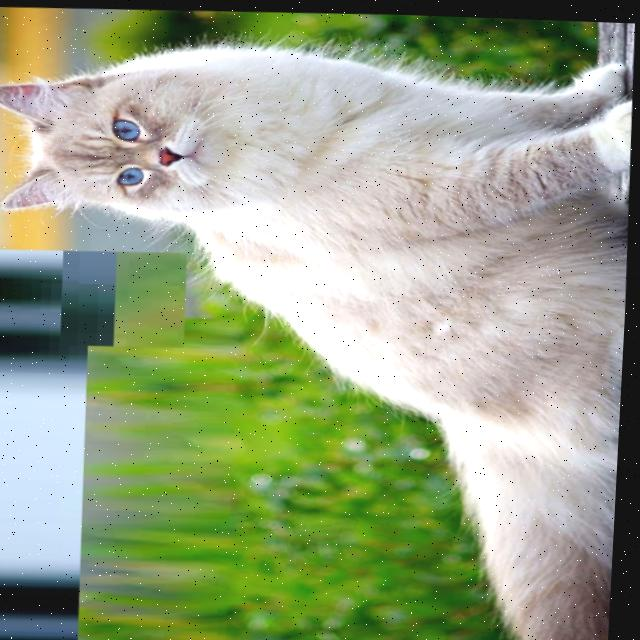Neva Masquerade: (0, 23, 639, 640)
